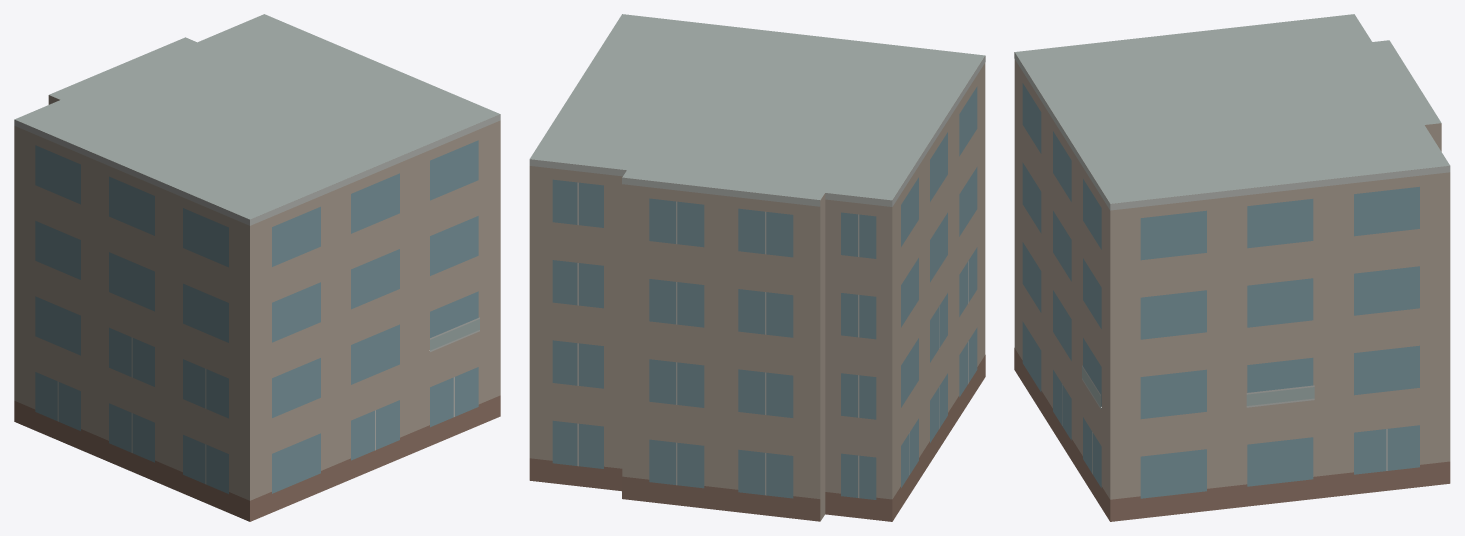
The model's file is survey-upis-32704114.glb.
3 renders of one model, left to right at view 1: azimuth 30°, elevation 25°; view 2: azimuth 150°, elevation 25°; view 3: azimuth 270°, elevation 25°, orthographic. The views are drawn at different scales.
Visible parts, largest first — view 1: survey-upis-32704114.tmp; view 2: survey-upis-32704114.tmp; view 3: survey-upis-32704114.tmp.
Part boxes in pixels (x1,y1,x2,y2): survey-upis-32704114.tmp: [14, 14, 500, 521]; survey-upis-32704114.tmp: [529, 14, 985, 521]; survey-upis-32704114.tmp: [1014, 14, 1450, 521].
Size of the model in its own units: 15.13 by 11.8 by 14.67.
